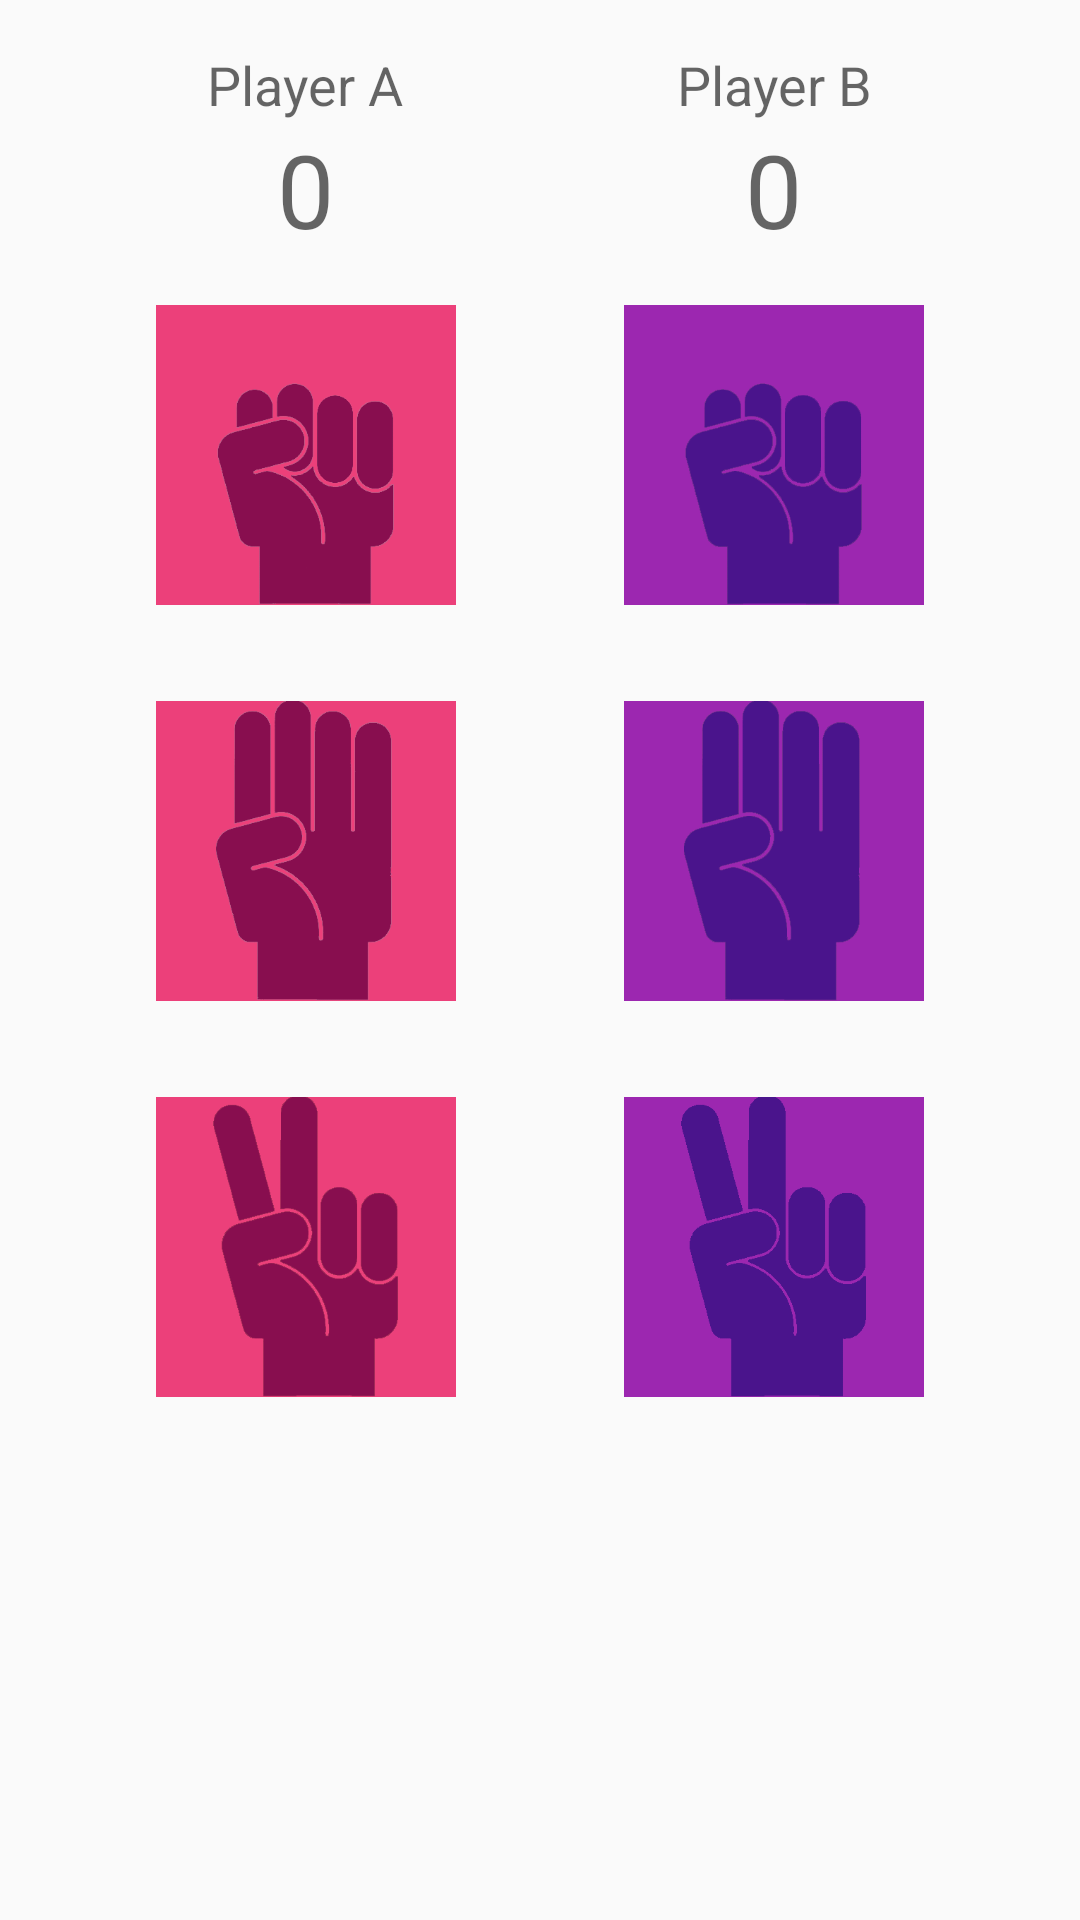

Locate icon controls on the screen. Image size 1080px x 1920px, boxes as [x1, y1, x2, y2].
paper: [156, 701, 456, 1001], [624, 701, 924, 1001]
rock: [156, 305, 456, 605], [624, 305, 924, 605]
scissor: [156, 1097, 456, 1397], [624, 1097, 924, 1397]
